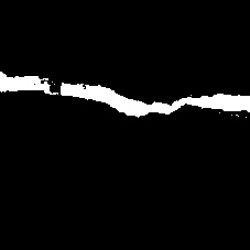crack: (1, 72, 249, 120)
